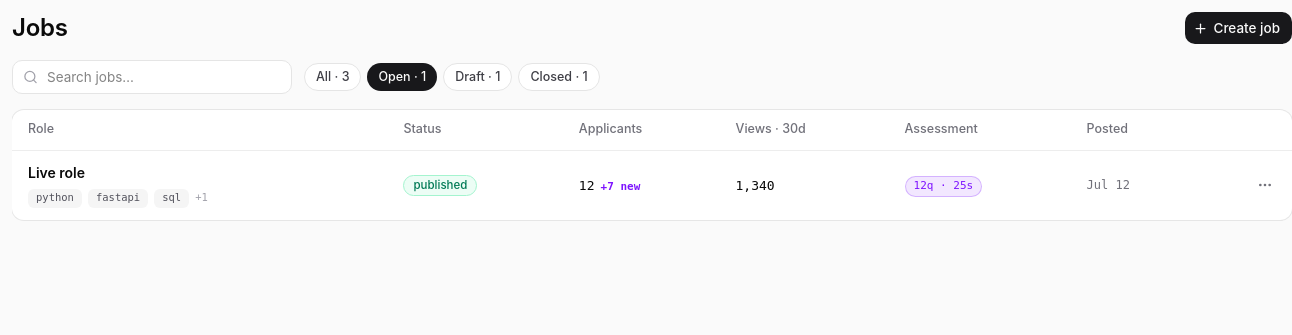
Test: JobsPage › offers Close instead of Publish for published jobs
Expected: the link "Live role" is shown, x1=28 y1=164 x2=85 y2=180
Click the button named "Actions for Live role". click: (1265, 185)
box: x1=1250 y1=170 x2=1280 y2=200
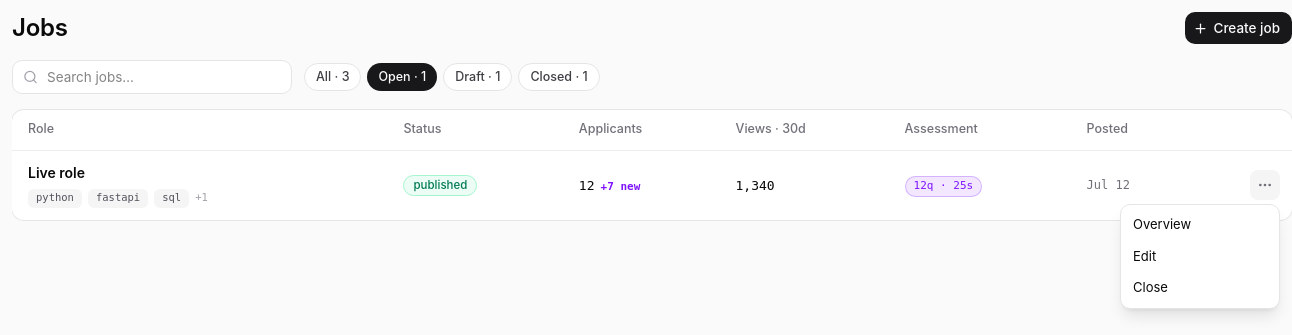
Result: the menu item "Close" is shown at x1=1133 y1=279 x2=1168 y2=295
